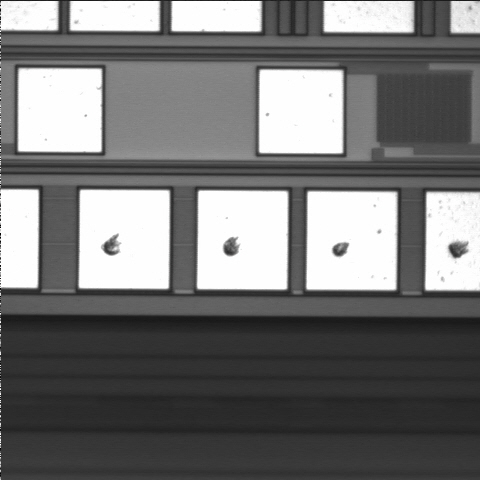pad: (79, 190, 170, 289), (197, 191, 288, 289), (307, 192, 397, 290), (18, 69, 102, 152), (259, 70, 343, 153)
